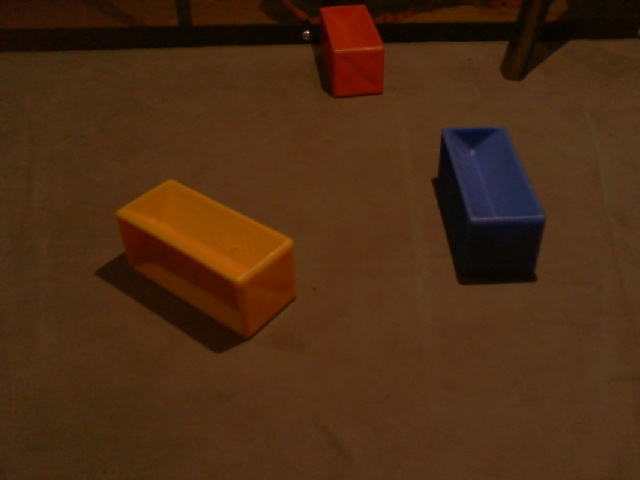BlueSample: (437, 122, 548, 280)
RedSample: (316, 1, 386, 101)
YellowSample: (113, 177, 298, 341)
